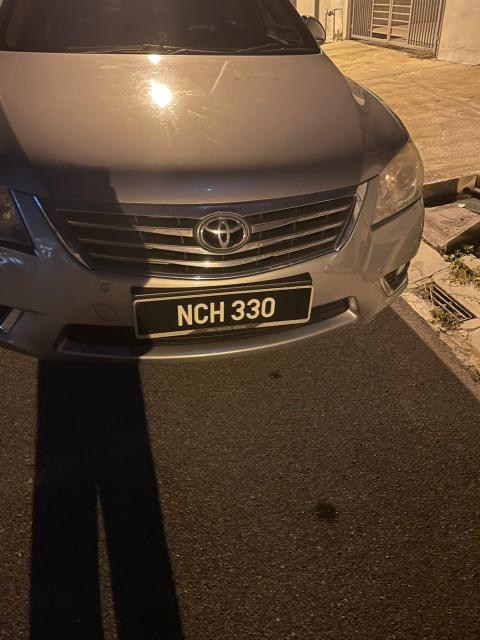License_Plate: (164, 296, 290, 329)
car: (2, 1, 437, 369)
